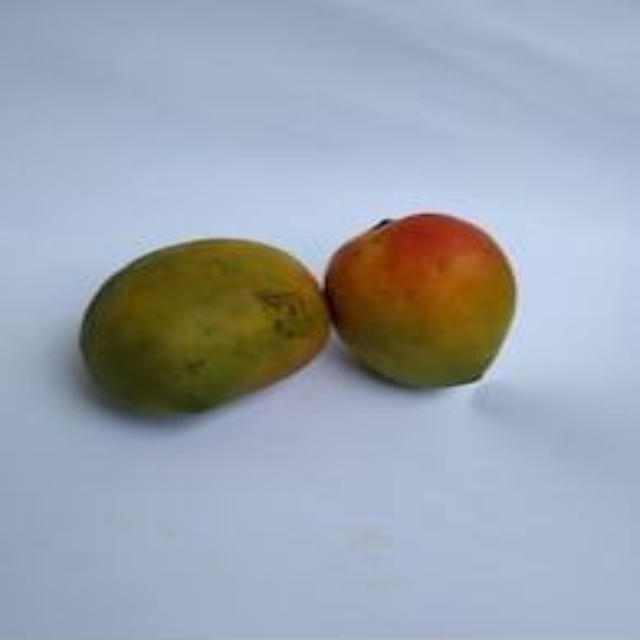mango: (82, 235, 334, 420), (320, 207, 519, 389)
